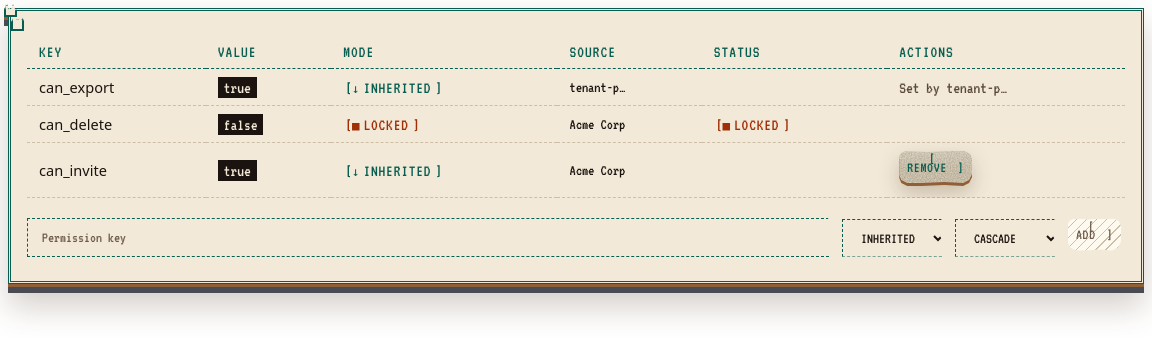
Scenario: PermissionEditor remove › keeps the permission and returns focus to Remove when the user selects Keep
Expected: the text "can_invite" is shown, [27, 142, 206, 198]
Click the button "Remove" at coordinates (936, 167), box [899, 151, 972, 183]
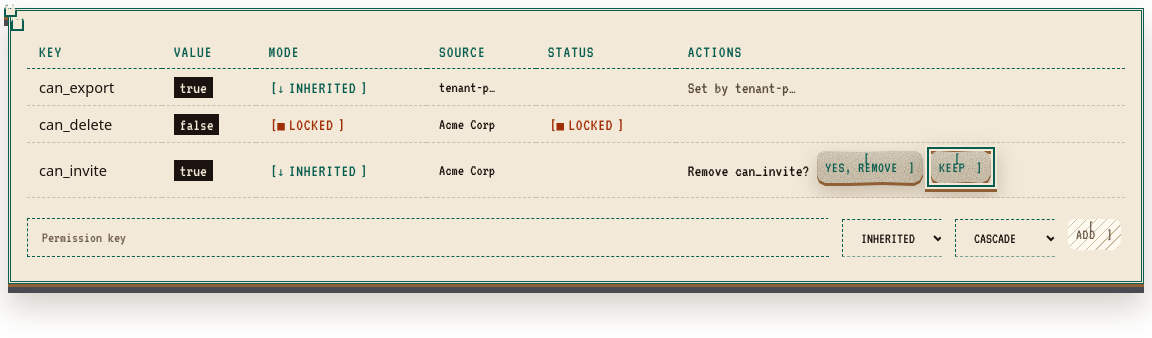
Click the button "Keep" at coordinates (961, 167), box [931, 151, 991, 183]
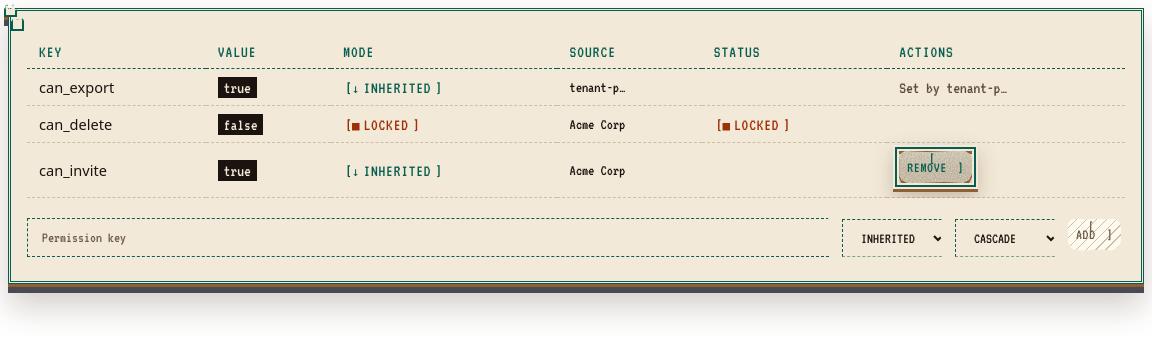
Expected: the text "Remove can_invite?" is gone
